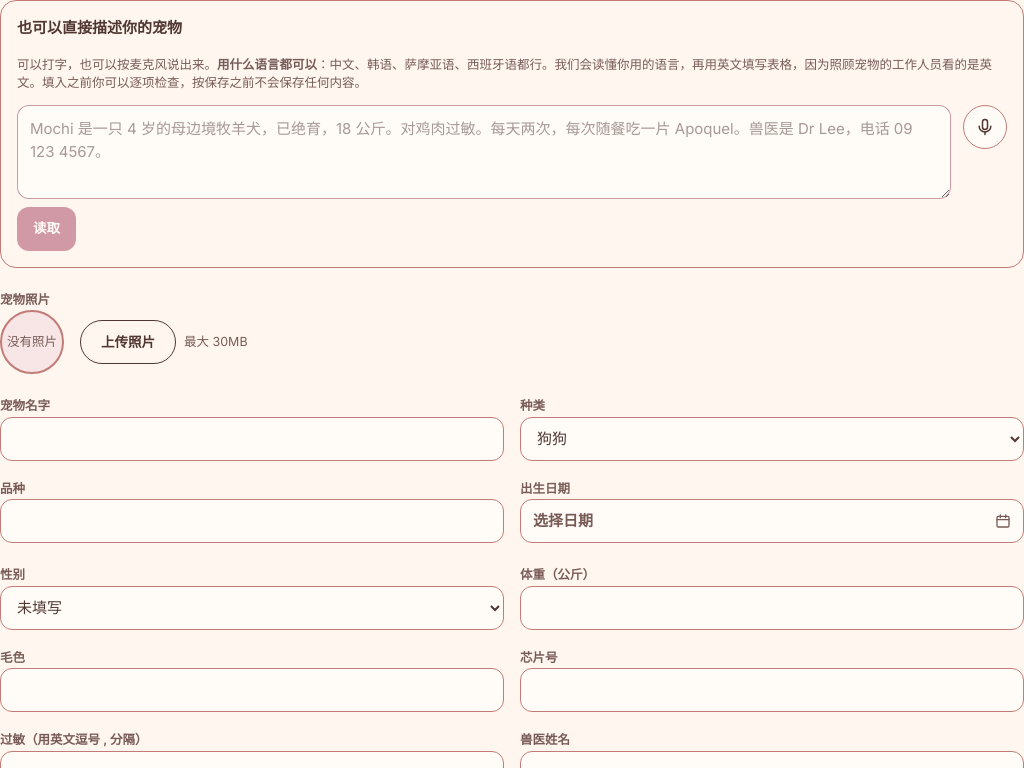
Test: the profile forms in Chinese › labels the pet form in Chinese, saves the stored values, and switches back to English
Type "Mochi" into the field labelled "宠物名字" at point(252, 438), box [0,416,504,460]
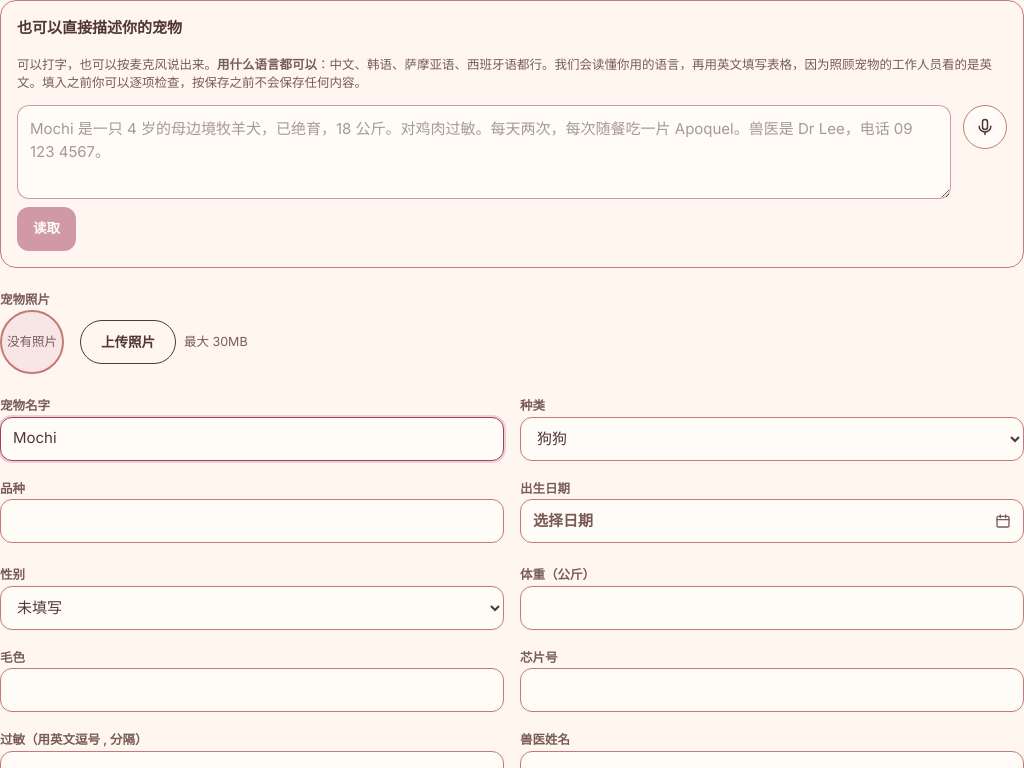
Note: The option reads 猫咪, but the value saved is still the enum the API stores.
Select "猫咪" in the dropdown labelled "种类" at point(772, 438), box [520,416,1023,460]
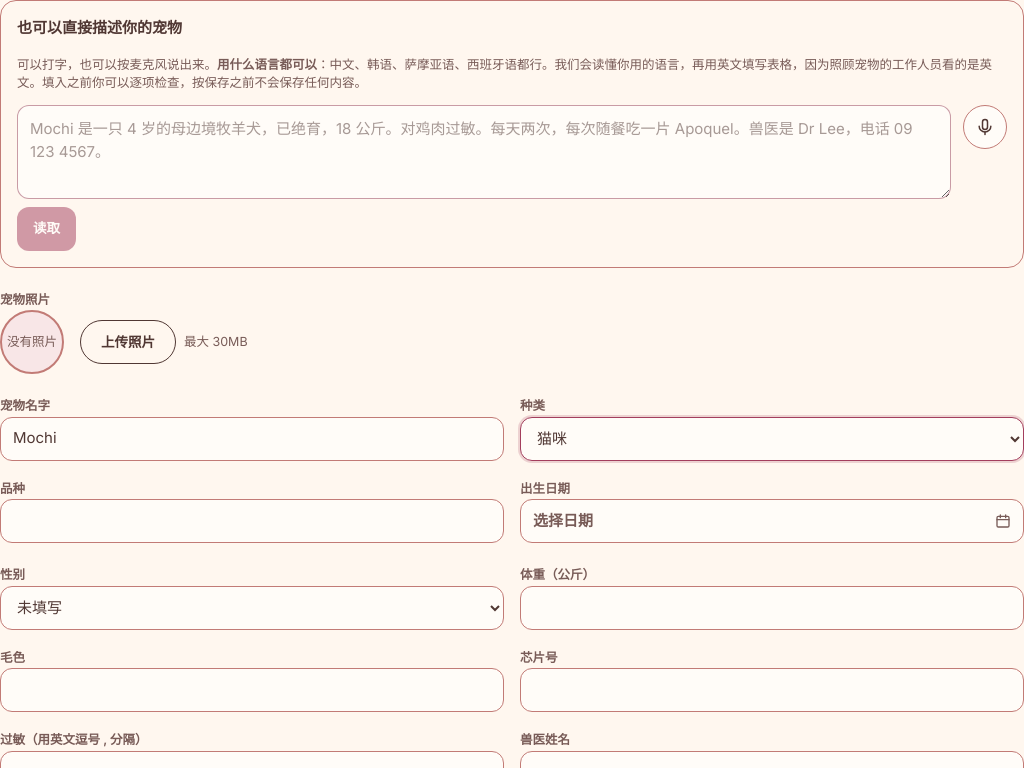
Select "母" in the dropdown labelled "性别" at point(252, 608), box [0,586,504,630]
(page scrolled)
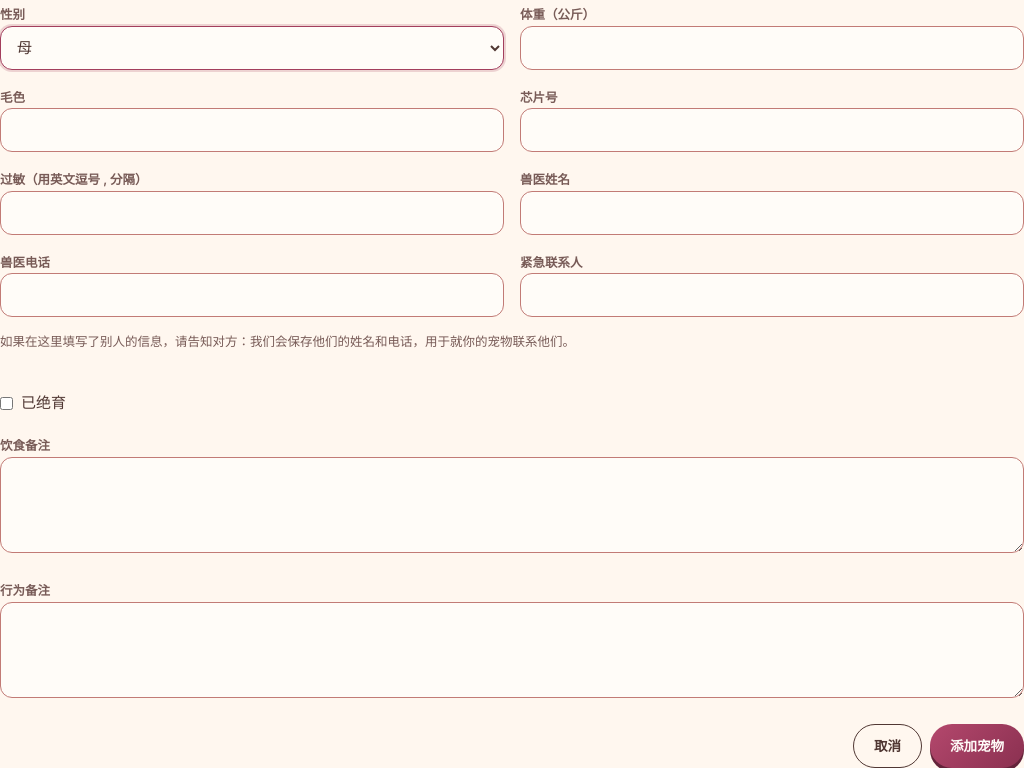
Click the button "添加宠物" at point(977, 746), box [930,724,1023,767]
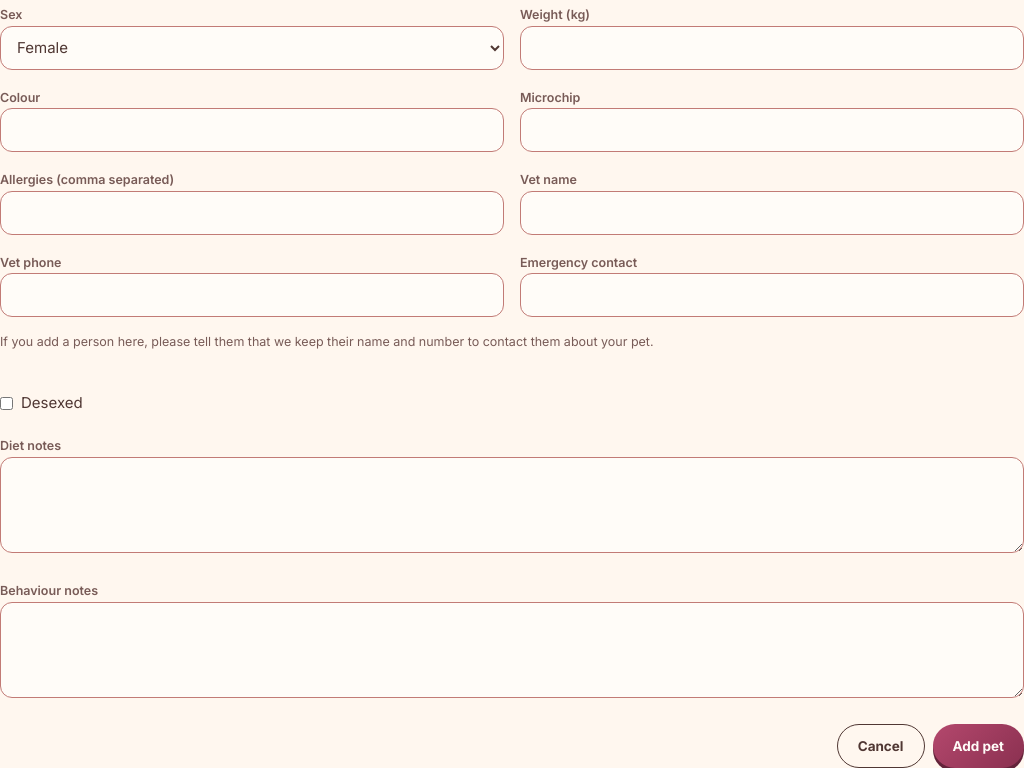
Now the button "Add pet" is shown, box [932,724,1023,767]
